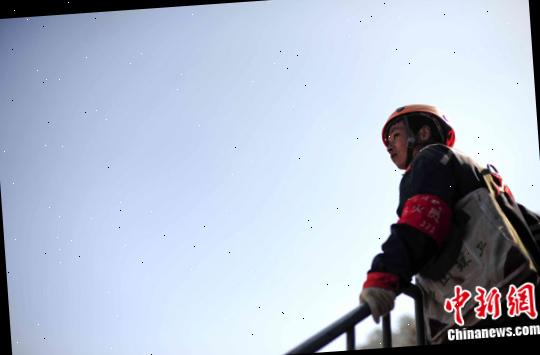helmet: (378, 99, 454, 150)
